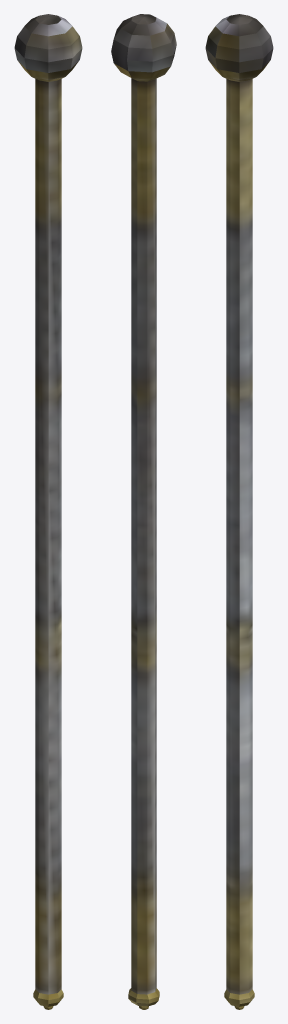
Rendered from f_gada.fbx.
3 views of the same model, side by side, from view 1: azimuth 90°, elevation 25°; view 2: azimuth 150°, elevation 25°; view 3: azimuth 270°, elevation 25° (orthographic).
Parts seen in each view (by area): view 1: Sphere; view 2: Sphere; view 3: Sphere.
Part boxes in pixels (x1=…): Sphere: x1=14, y1=14, x2=82, y2=1009; Sphere: x1=111, y1=14, x2=176, y2=1009; Sphere: x1=205, y1=14, x2=273, y2=1009.
Bounding box in the file's own units: 18.57 × 298 × 18.57.
Materials: 1 (1 with a texture image).
